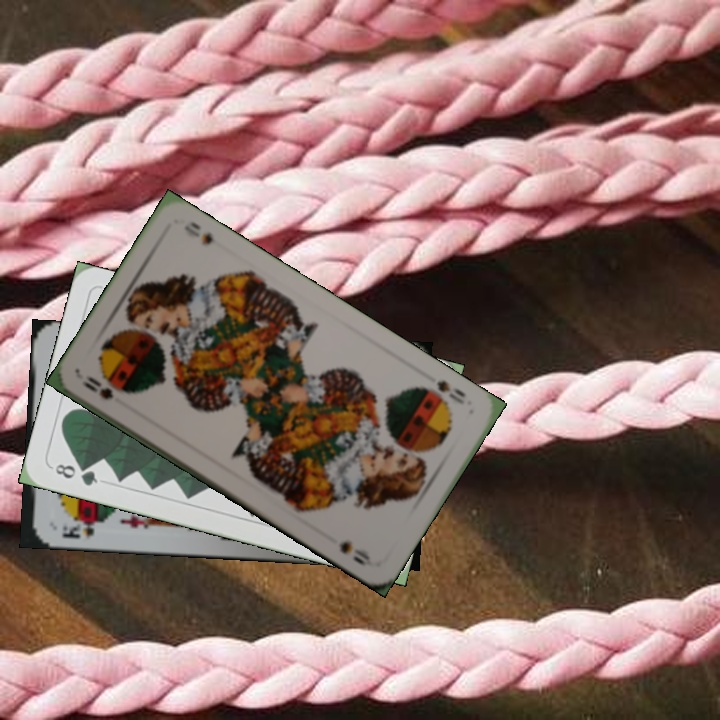G8: (51, 459, 101, 489)
SK: (58, 515, 105, 541)
SO: (432, 376, 469, 408), (79, 371, 117, 402)
